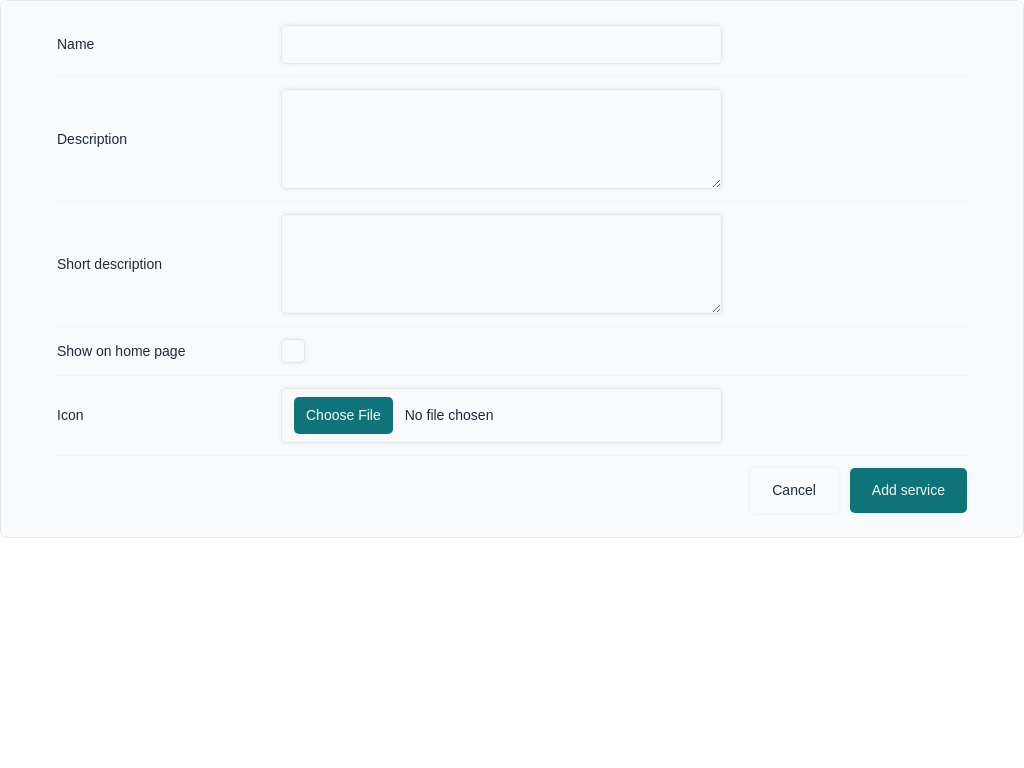
ServiceForm › shows validation errors for required fields
What coordinates should you click on to do the following:
click the button "Add service"
I would click on:
 (908, 490)
Its box is [850,468,967,513].
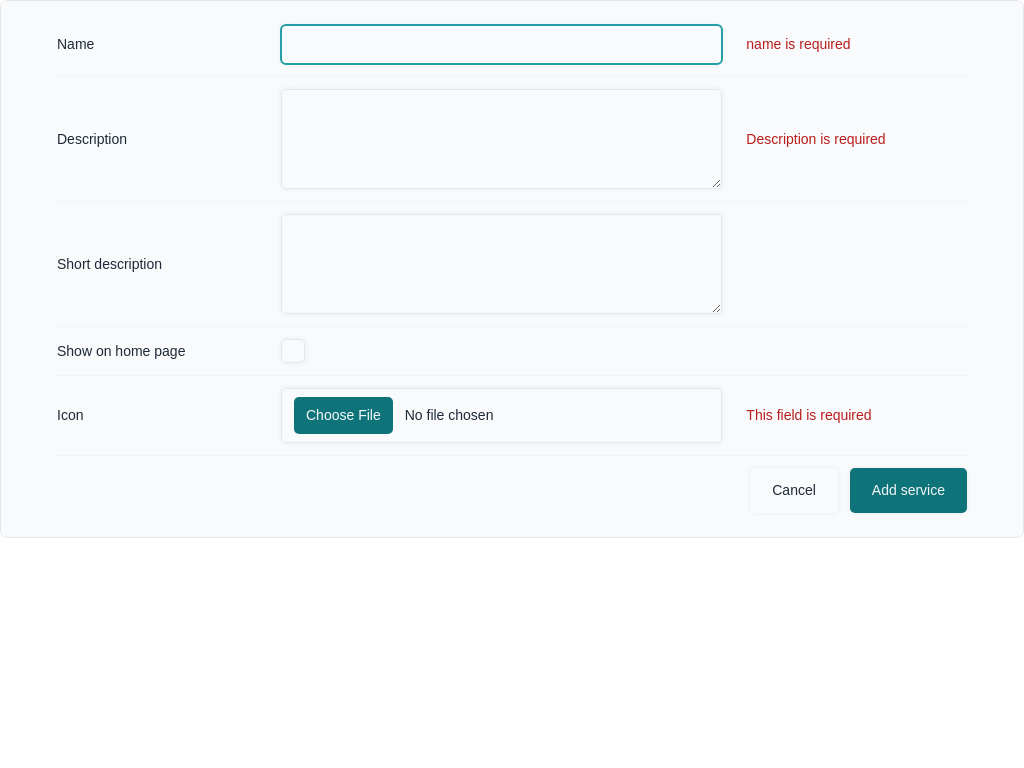
Expected: the text "name is required" is shown, [746,36,851,52]
Expected: the text "Description is required" is shown, [746,130,886,146]
Expected: the text "This field is required" is shown, [746,407,872,423]
